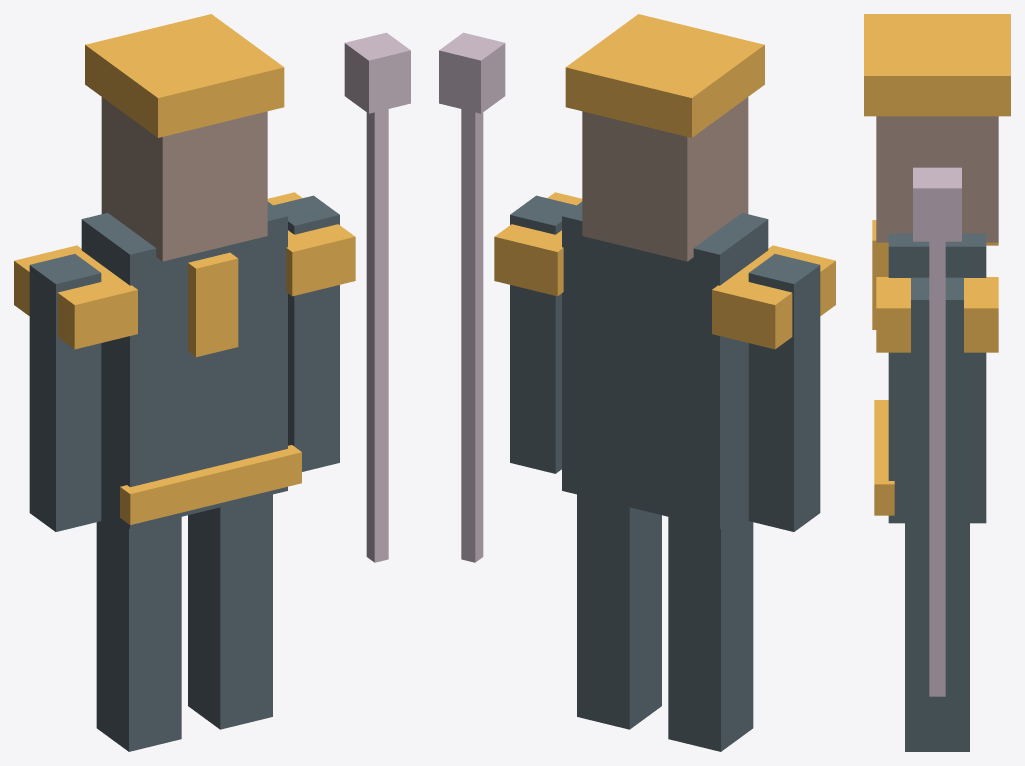
File: 01_asha_nullborne_mechanist_of_decon.glb
3 renders of one model, left to right at view 1: azimuth 30°, elevation 25°; view 2: azimuth 150°, elevation 25°; view 3: azimuth 270°, elevation 25°, orthographic.
Parts seen in each view (by area): view 1: Asha Nullborne, Mechanist of Decon; view 2: Asha Nullborne, Mechanist of Decon; view 3: Asha Nullborne, Mechanist of Decon.
Part boxes in pixels (<box>): Asha Nullborne, Mechanist of Decon: <box>14,14,410,751</box>; Asha Nullborne, Mechanist of Decon: <box>439,14,835,751</box>; Asha Nullborne, Mechanist of Decon: <box>864,14,1010,751</box>.
Bounding box in the file's own units: 0.9426 × 1.69 × 0.3343.
